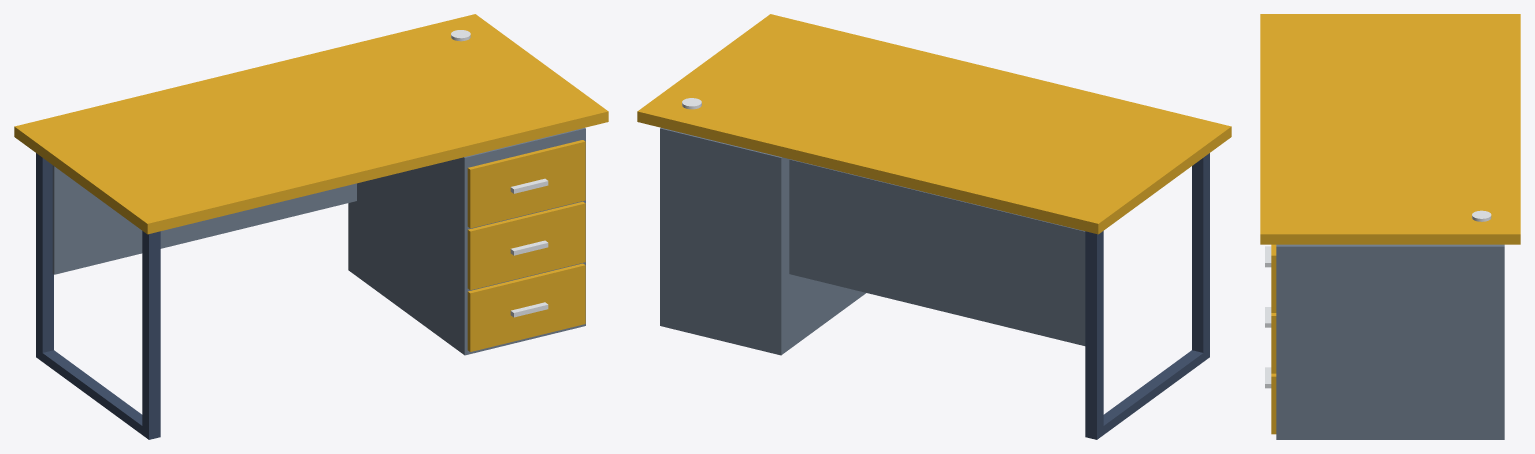
File: meja_dosen.glb
3 views of the same model, side by side, from view 1: azimuth 30°, elevation 25°; view 2: azimuth 150°, elevation 25°; view 3: azimuth 270°, elevation 25° (orthographic). The views are drawn at different scales.
Parts seen in each view (by area): view 1: Meja_Dosen_Kantor; view 2: Meja_Dosen_Kantor; view 3: Meja_Dosen_Kantor.
Boxes of the visible parts, x1=… form: Meja_Dosen_Kantor: x1=14, y1=14, x2=608, y2=439; Meja_Dosen_Kantor: x1=637, y1=14, x2=1231, y2=439; Meja_Dosen_Kantor: x1=1260, y1=14, x2=1520, y2=439.
Bounding box in the file's own units: 1.6 × 0.76 × 0.8.
